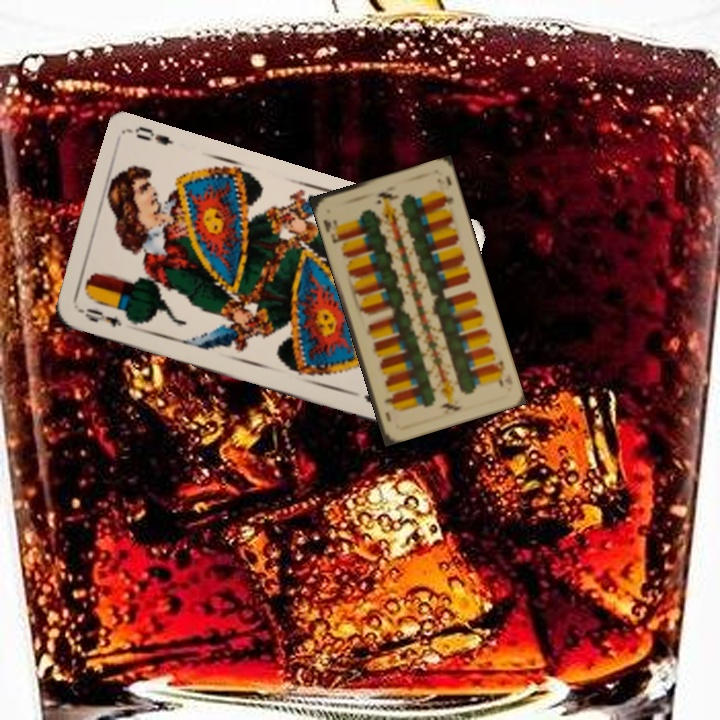E10: (320, 215, 346, 246), (489, 356, 507, 390)
EO: (74, 303, 124, 331)
